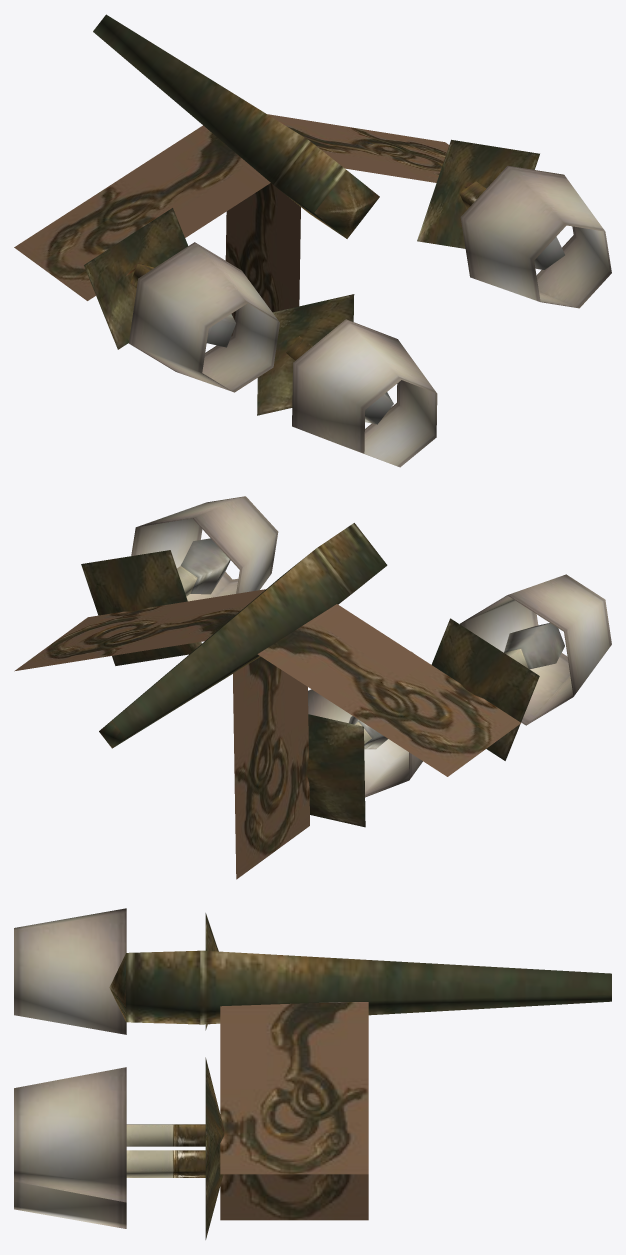
The model's file is light_walllightornate_off.glb.
The picture shows the model from 3 angles, top to bottom: view 1: azimuth 30°, elevation 25°; view 2: azimuth 150°, elevation 25°; view 3: azimuth 270°, elevation 25°; orthographic projection.
Size of the model in its own units: 31.04 by 18.05 by 34.94.
3 materials, 3 textured.
